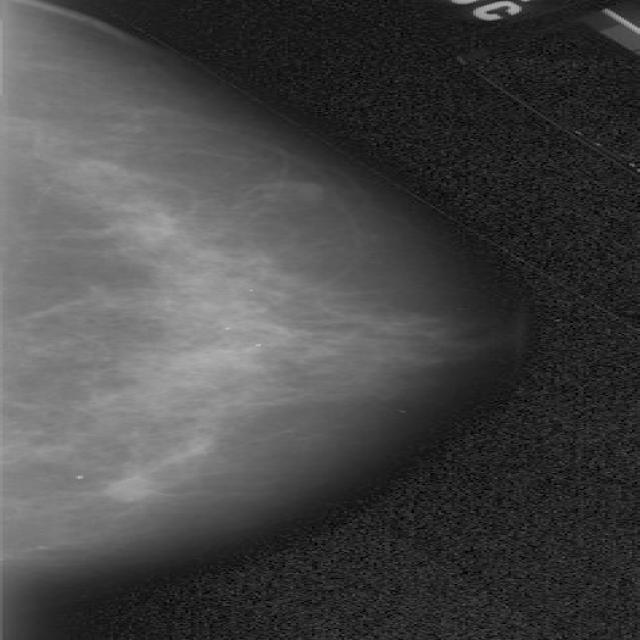tumour: (97, 473, 148, 501)
